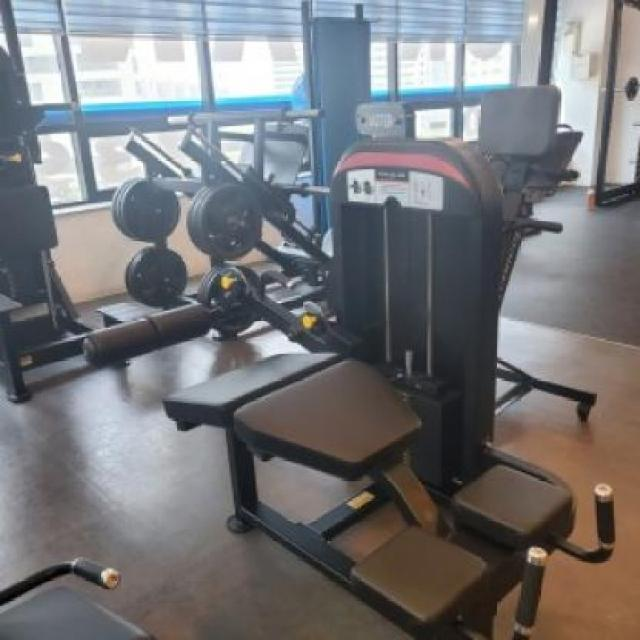reg curl machine: (80, 129, 628, 640)
